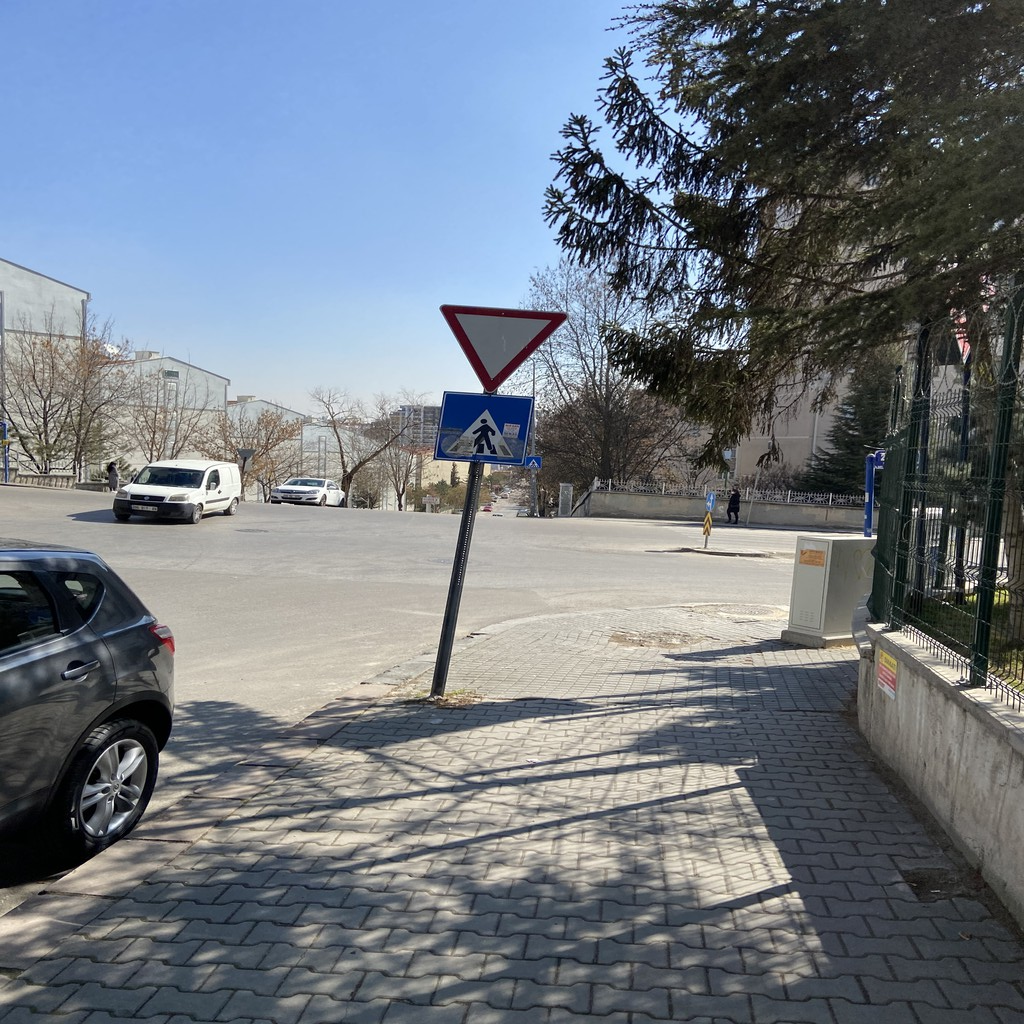Yaya Gecidi: (443, 394, 532, 464)
Yol Ver: (448, 301, 565, 391)
